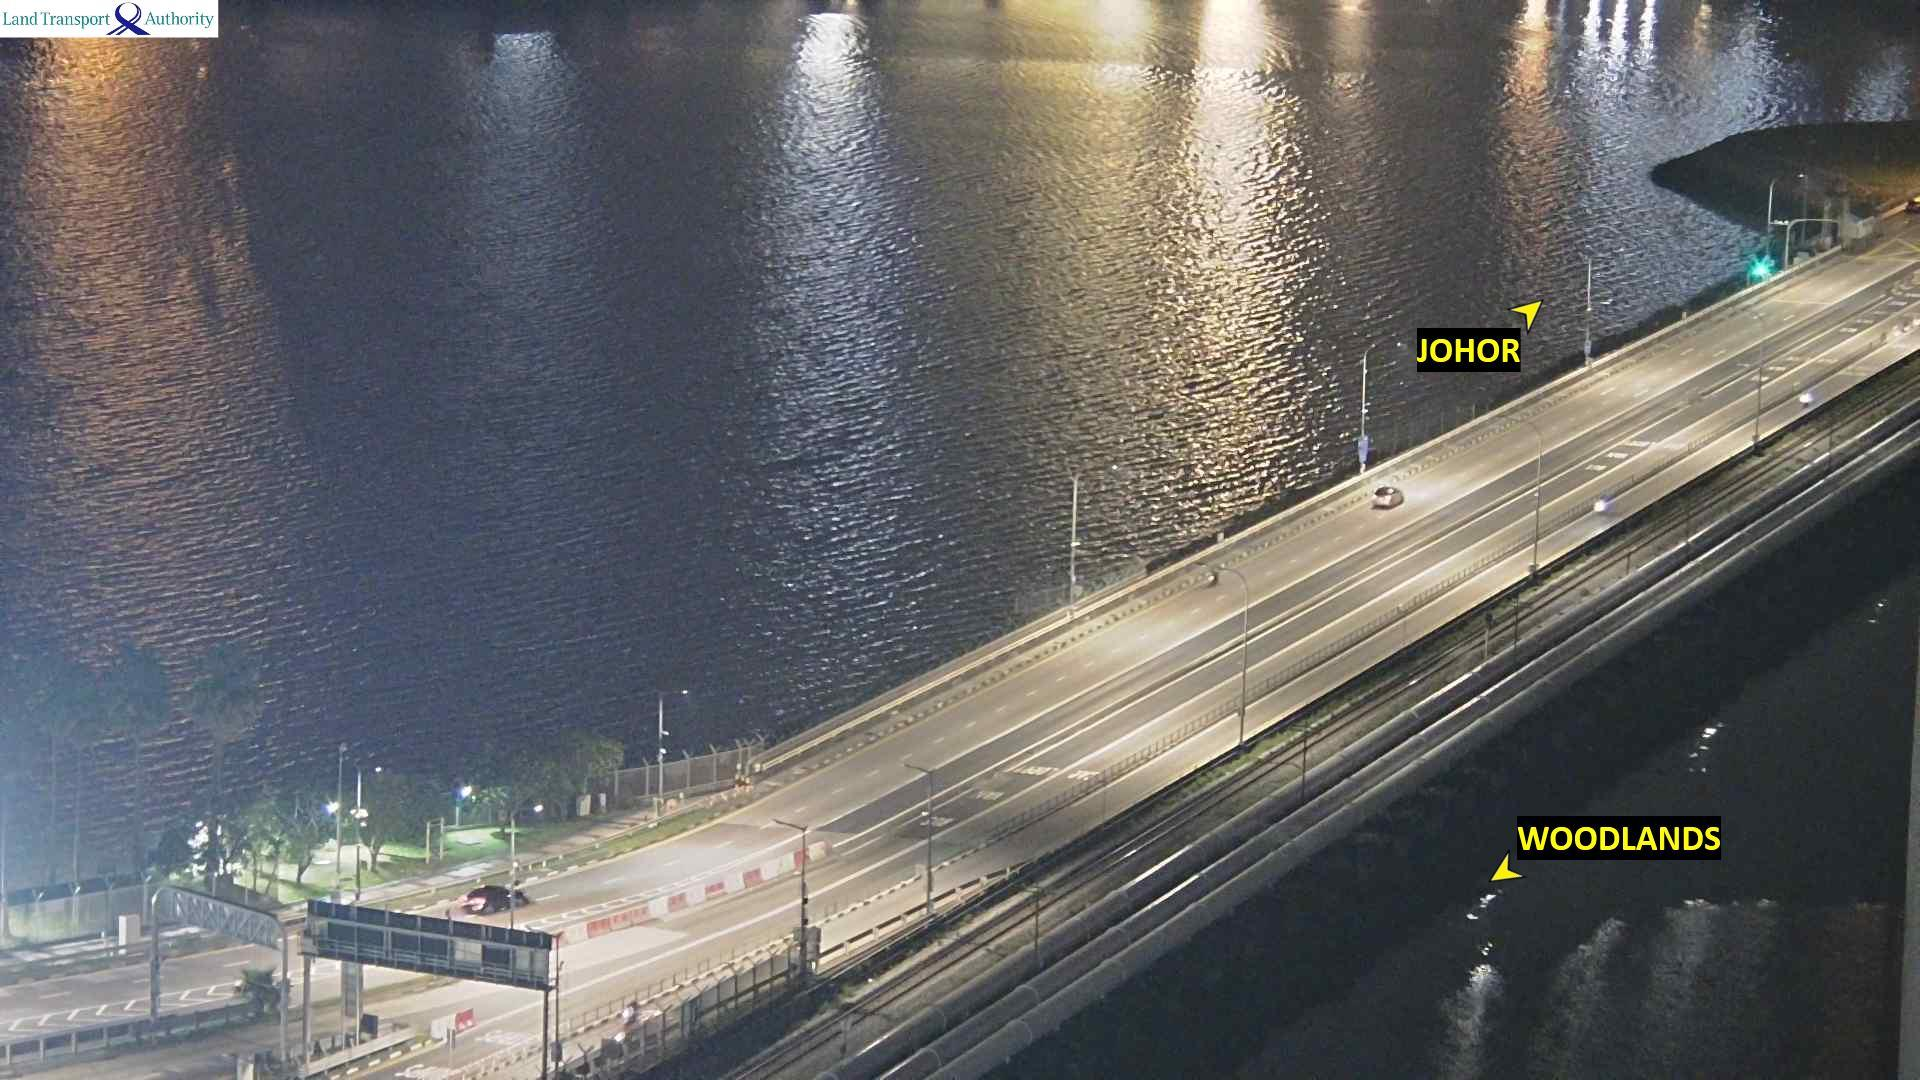vehicle-causeway-johor: (461, 888, 535, 912), (1373, 485, 1402, 507), (1208, 570, 1218, 588)
vehicle-causeway-singapore: (1797, 392, 1812, 409), (1596, 497, 1606, 512)
